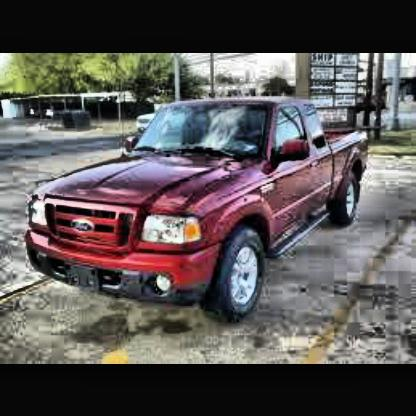Ford Ranger SuperCab 2011: (25, 92, 376, 321)
